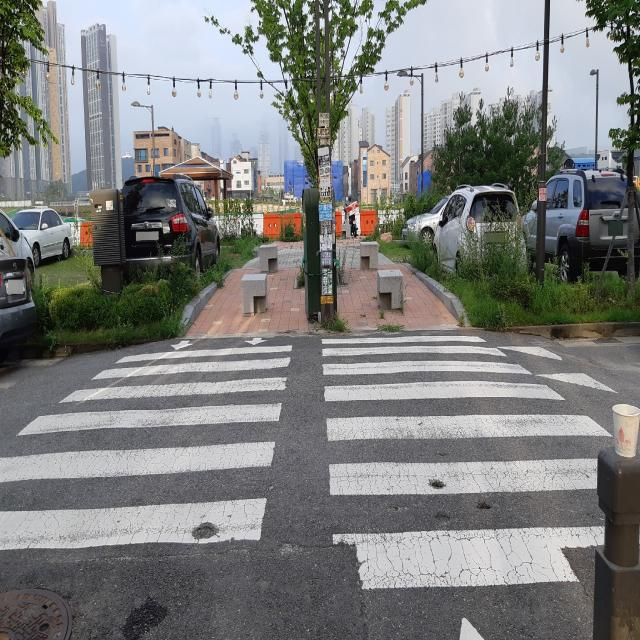횡단보도: (0, 336, 613, 639)
